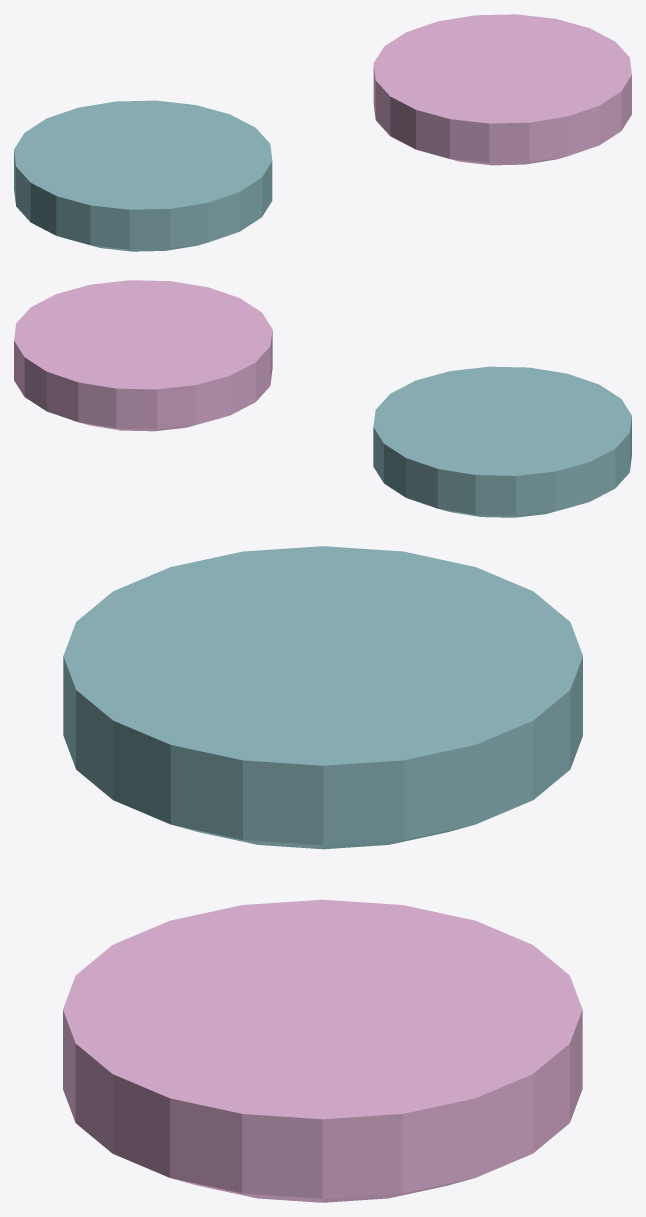
Rendered from mama.fbx.
3 renders of one model, top to bottom at view 1: azimuth 30°, elevation 25°; view 2: azimuth 150°, elevation 25°; view 3: azimuth 270°, elevation 25°, orthographic. The views are drawn at different scales.
Parts seen in each view (by area): view 1: pCylinder3, pasted__pCylinder3; view 2: pCylinder3, pasted__pCylinder3; view 3: pCylinder3, pasted__pCylinder3.
Boxes of the visible parts, box(x1,y1,x2,y2) form: pCylinder3: box(14, 100, 272, 251); pasted__pCylinder3: box(373, 14, 631, 165); pCylinder3: box(373, 366, 631, 517); pasted__pCylinder3: box(14, 280, 272, 431); pCylinder3: box(63, 546, 582, 849); pasted__pCylinder3: box(63, 899, 582, 1202).
Size of the model in its own units: 4.05 by 0.3528 by 1.56.
